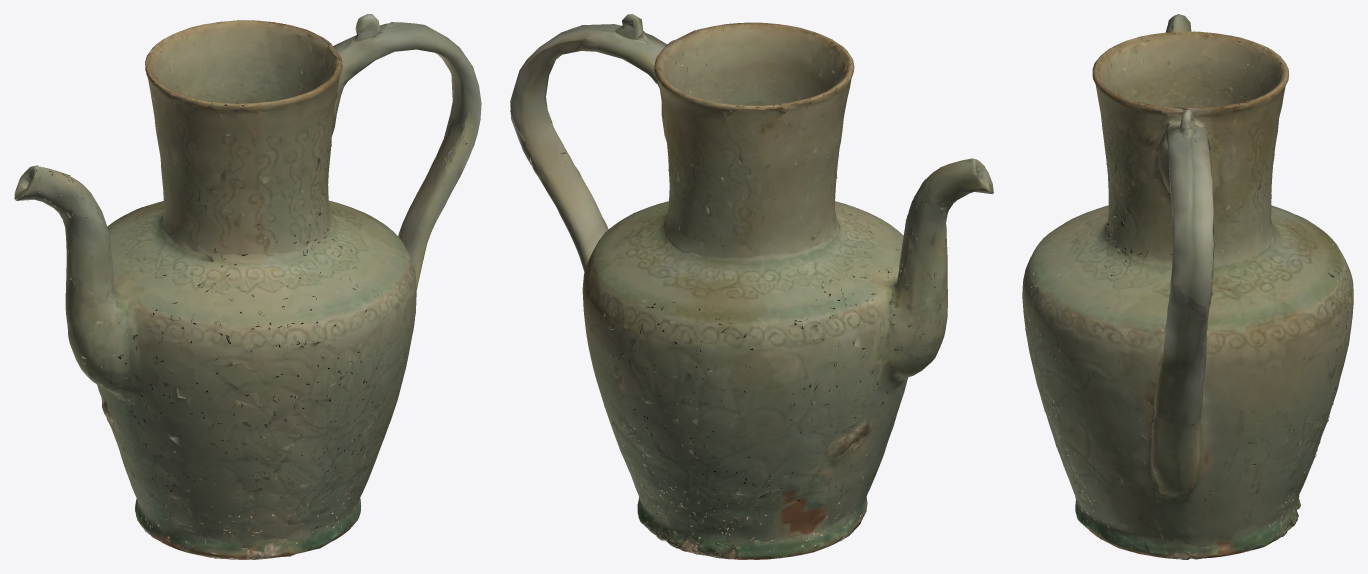
The model's file is winepot.glb.
3 renders of one model, left to right at view 1: azimuth 30°, elevation 25°; view 2: azimuth 150°, elevation 25°; view 3: azimuth 270°, elevation 25°, orthographic.
Parts seen in each view (by area): view 1: Object_3, Object_2, Object_4; view 2: Object_3, Object_4, Object_2; view 3: Object_3, Object_2, Object_4.
Part boxes in pixels (x1=…): Object_3: x1=15, y1=20, x2=479, y2=535; Object_2: x1=111, y1=23, x2=416, y2=559; Object_4: x1=14, y1=14, x2=481, y2=559; Object_3: x1=521, y1=22, x2=993, y2=559; Object_4: x1=510, y1=14, x2=993, y2=559; Object_2: x1=613, y1=40, x2=918, y2=559; Object_3: x1=1022, y1=14, x2=1353, y2=559; Object_2: x1=1022, y1=77, x2=1330, y2=559; Object_4: x1=1023, y1=14, x2=1351, y2=538.
Size of the model in its own units: 0.2322 by 0.224 by 0.1449.
2 materials, 1 textured.
